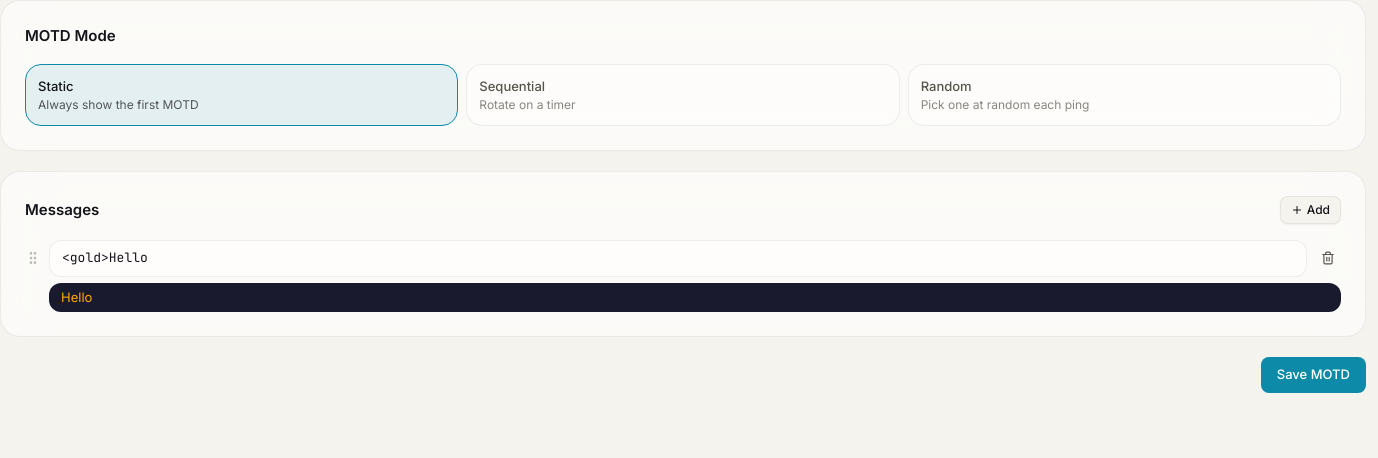
Test case: MotdEditor › reveals the interval input only in SEQUENTIAL mode
Click the button "Sequential Rotate on a timer" at (512, 86), box [466, 64, 900, 126]
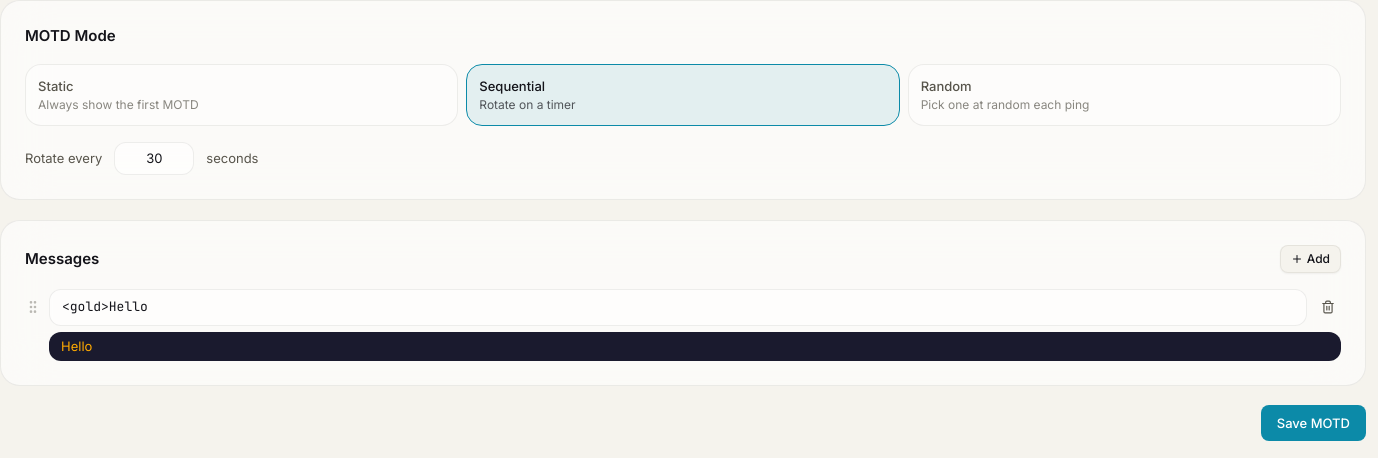
Expected: the number field is shown, [114, 142, 194, 175]
